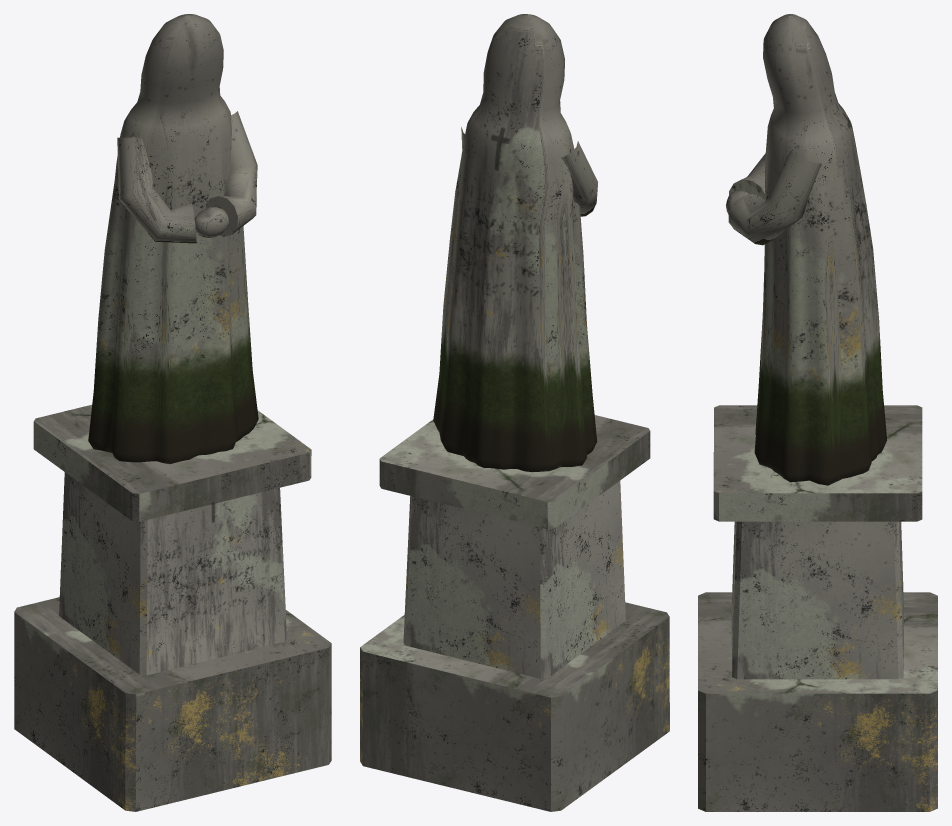
File: Statue_Mourner.gltf
The picture shows the model from 3 angles, left to right: view 1: azimuth 30°, elevation 25°; view 2: azimuth 150°, elevation 25°; view 3: azimuth 270°, elevation 25°; orthographic projection. The views are drawn at different scales.
Parts seen in each view (by area): view 1: Statue_Mourner; view 2: Statue_Mourner; view 3: Statue_Mourner.
Part boxes in pixels (x1,y1,x2,y2): Statue_Mourner: (14, 14, 331, 811); Statue_Mourner: (360, 14, 669, 811); Statue_Mourner: (698, 14, 937, 811).
Bounding box in the file's own units: 0.9212 × 3.15 × 0.9206.
Materials: 4 (3 with a texture image).
